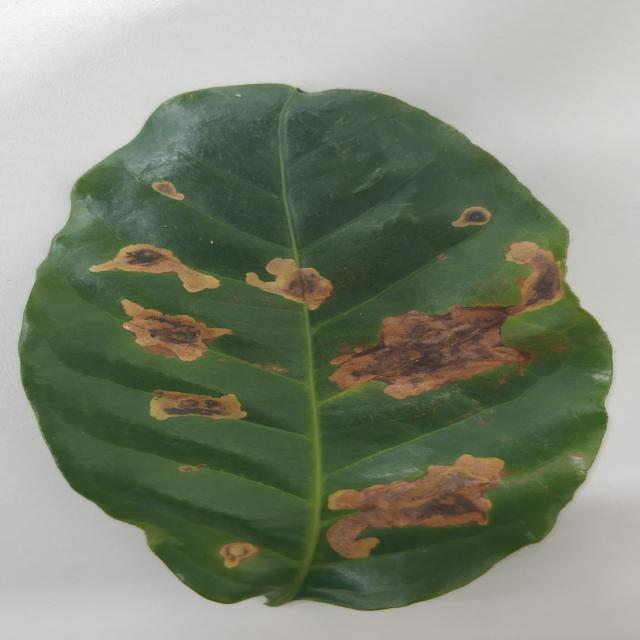Plaga-Minador: (22, 84, 614, 614)
